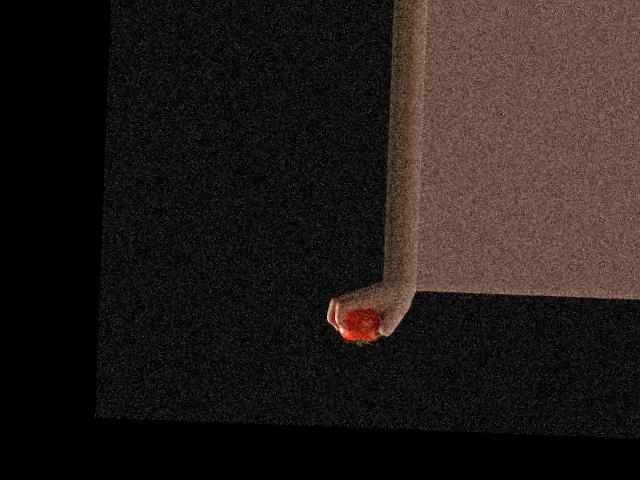tomato: (339, 309, 382, 346)
